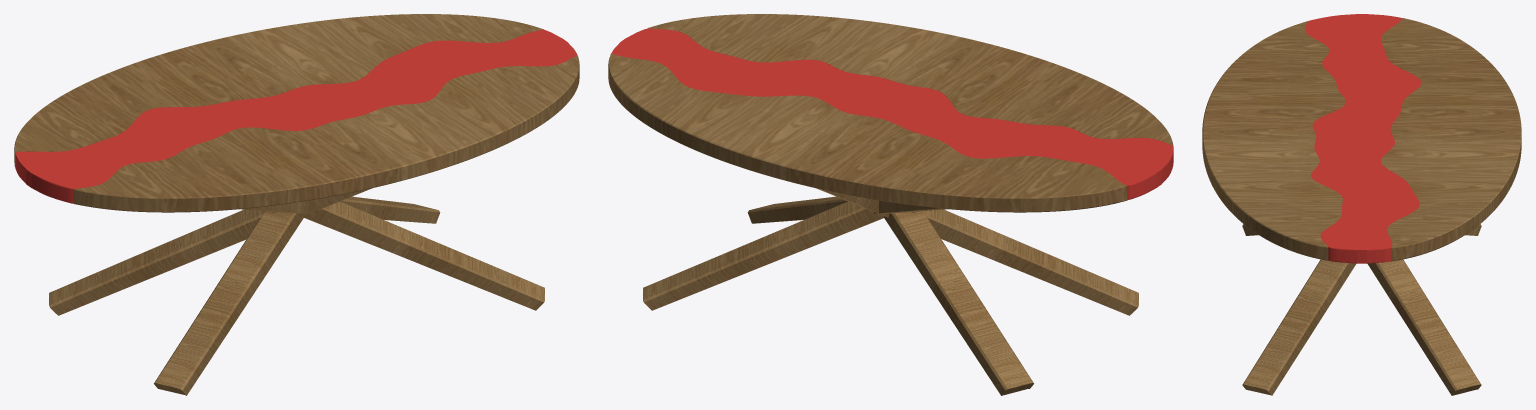
File: ellipse-oak-epoxy-crimson.glb
The picture shows the model from 3 angles, left to right: view 1: azimuth 30°, elevation 25°; view 2: azimuth 150°, elevation 25°; view 3: azimuth 270°, elevation 25°; orthographic projection. The views are drawn at different scales.
Parts seen in each view (by area): view 1: Wood_Ellipse_EpoxyFar, Wood_Ellipse_EpoxyNear, Base_Ellipse, Resin_Ellipse; view 2: Wood_Ellipse_EpoxyNear, Wood_Ellipse_EpoxyFar, Base_Ellipse, Resin_Ellipse; view 3: Wood_Ellipse_EpoxyNear, Wood_Ellipse_EpoxyFar, Resin_Ellipse, Base_Ellipse.
Boxes of the visible parts, <box> form: Wood_Ellipse_EpoxyFar: <box>73,55,579,212</box>; Wood_Ellipse_EpoxyNear: <box>14,14,543,166</box>; Base_Ellipse: <box>49,188,544,395</box>; Resin_Ellipse: <box>15,29,577,203</box>; Wood_Ellipse_EpoxyNear: <box>608,53,1127,212</box>; Wood_Ellipse_EpoxyFar: <box>647,14,1173,145</box>; Base_Ellipse: <box>643,188,1138,395</box>; Resin_Ellipse: <box>611,28,1173,200</box>; Wood_Ellipse_EpoxyNear: <box>1381,18,1521,261</box>; Wood_Ellipse_EpoxyFar: <box>1202,21,1345,260</box>; Resin_Ellipse: <box>1305,14,1421,263</box>; Base_Ellipse: <box>1242,224,1481,395</box>.
Bounding box in the file's own units: 2.13 × 0.762 × 1.22.
Materials: 2 (1 with a texture image).
